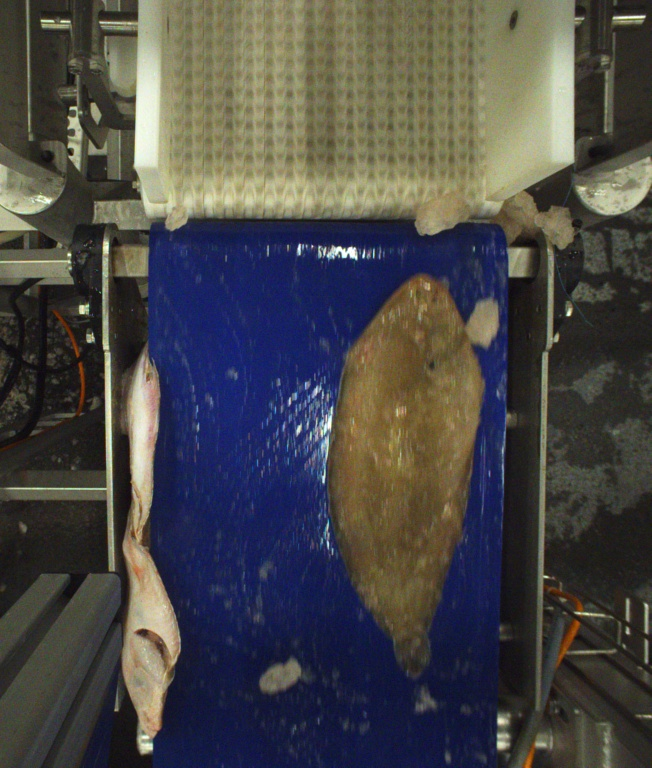SOL: (329, 274, 485, 680)
